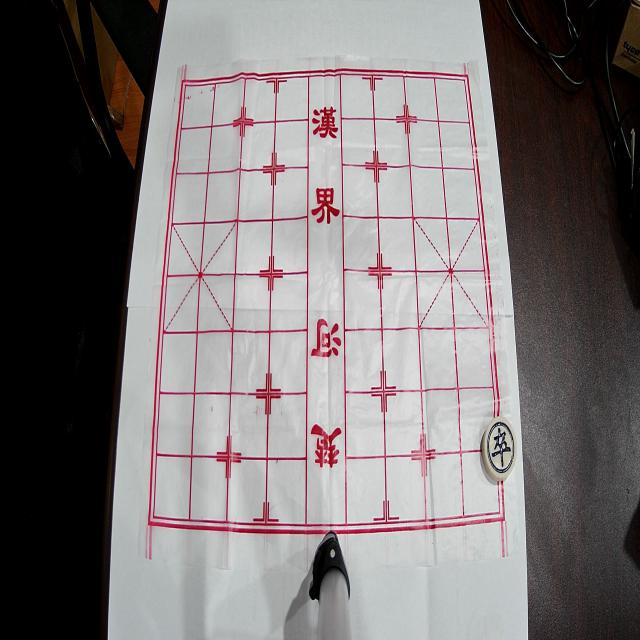black-soldier: (482, 416, 517, 481)
